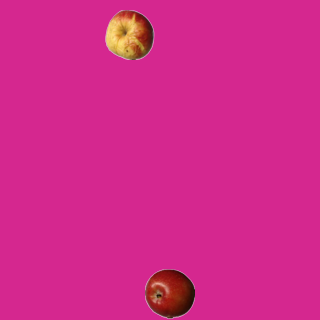Apple Braeburn: (144, 268, 194, 318)
Apple Red Yellow 1: (104, 9, 154, 59)
